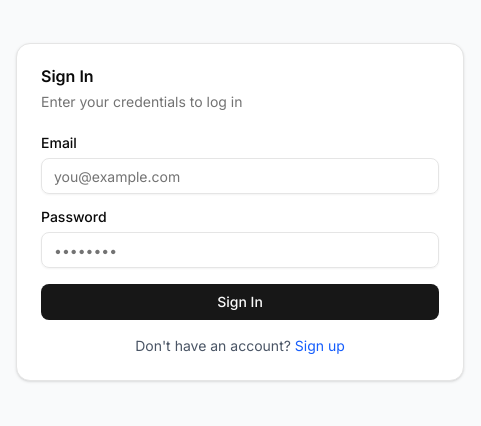
Test: LoginPage › should show error message on failed login
Type "test@example.com" into the field labelled "Email" at (240, 176), box [41,158,439,194]
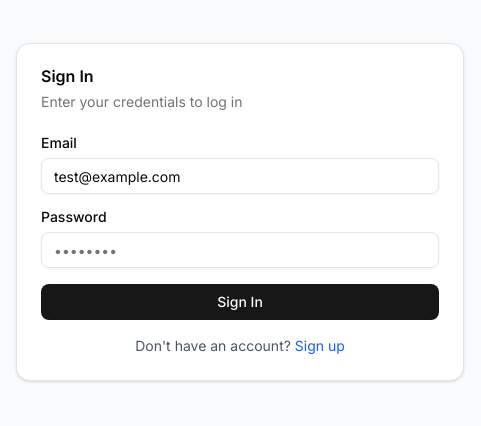
Type "wrong" into the password field labelled "Password" at (240, 250), box [41,232,439,268]
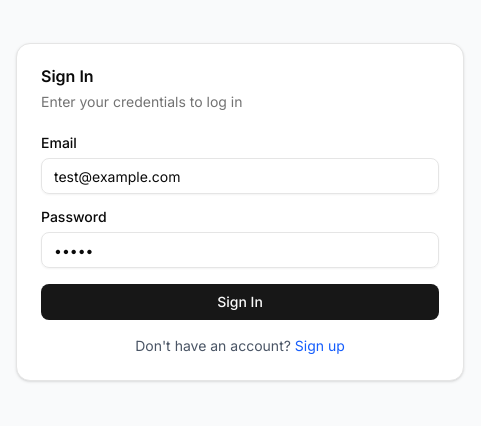
Click the button "Sign In" at (240, 302), box [41,284,439,320]
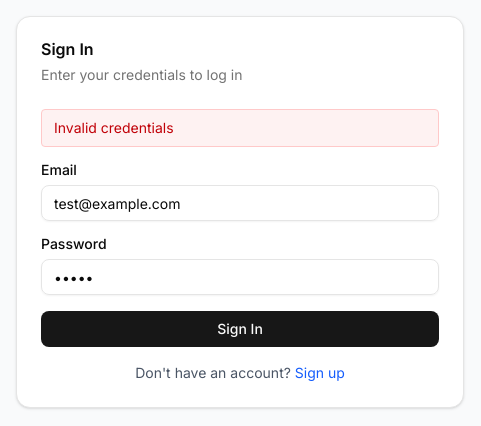
Result: the text "Invalid credentials" is shown at [41,109,439,147]
